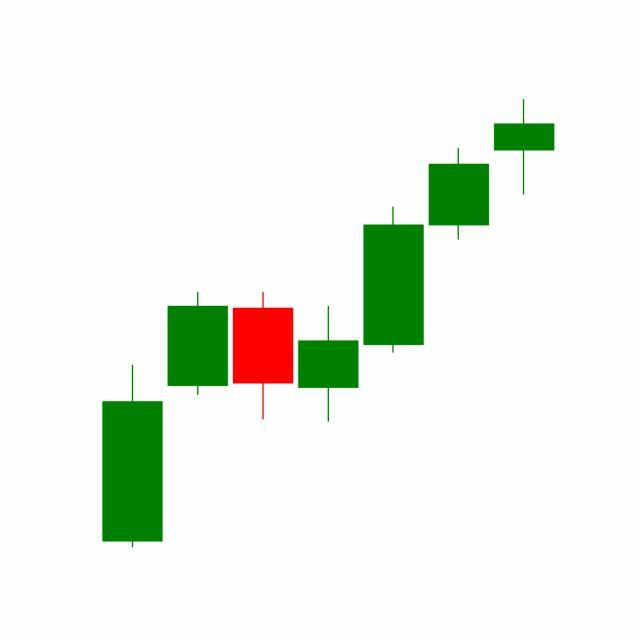Advance Block: (360, 100, 556, 358)
